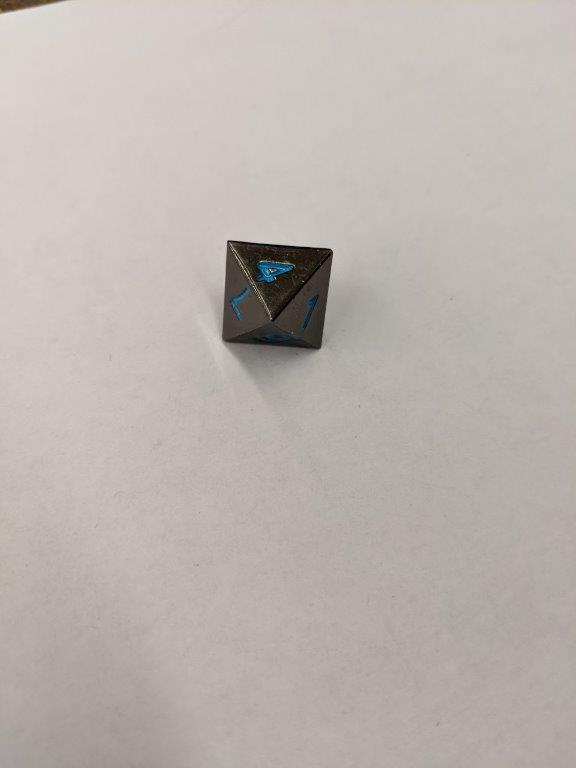d8-4: (216, 234, 336, 359)
